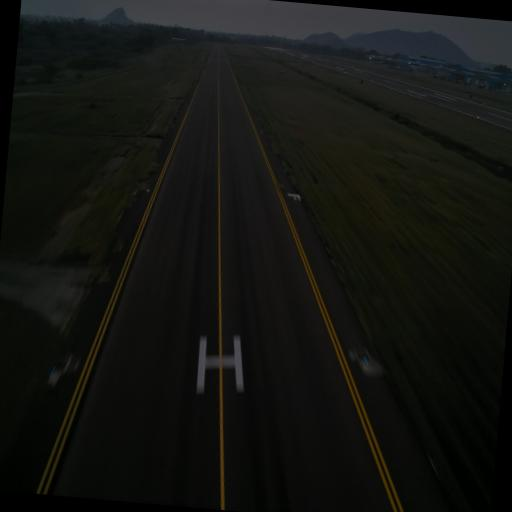on: (47, 364, 59, 382), (360, 352, 372, 370)
